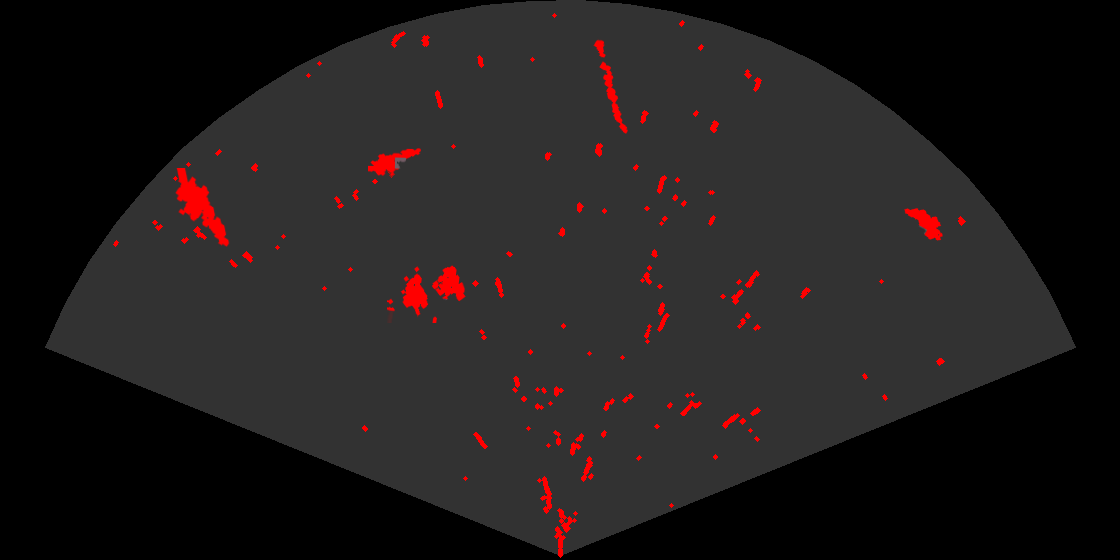AUV: (903, 206, 944, 242)
cage: (387, 264, 467, 323)
chain: (592, 37, 629, 135)
frogman: (174, 168, 231, 248), (368, 147, 421, 178)
